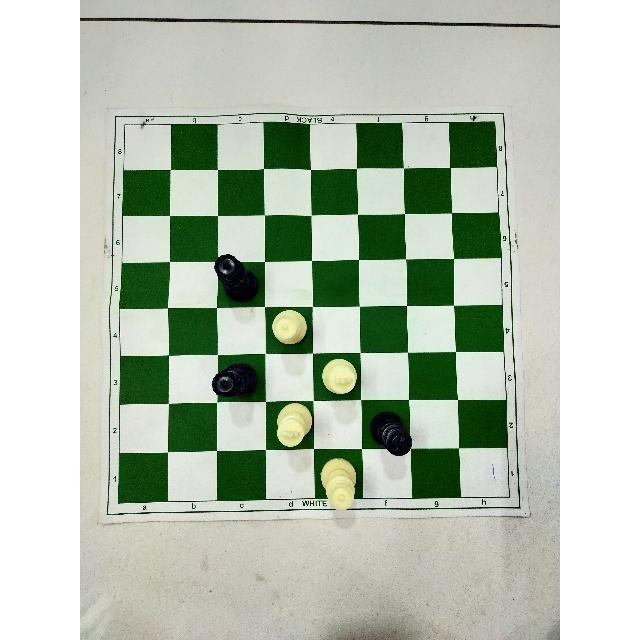black-king: (369, 410, 412, 457)
black-queen: (213, 251, 261, 302), (211, 361, 259, 401)
white-king: (275, 401, 313, 448), (321, 358, 359, 396)
white-queen: (318, 457, 362, 512), (271, 309, 308, 349)
